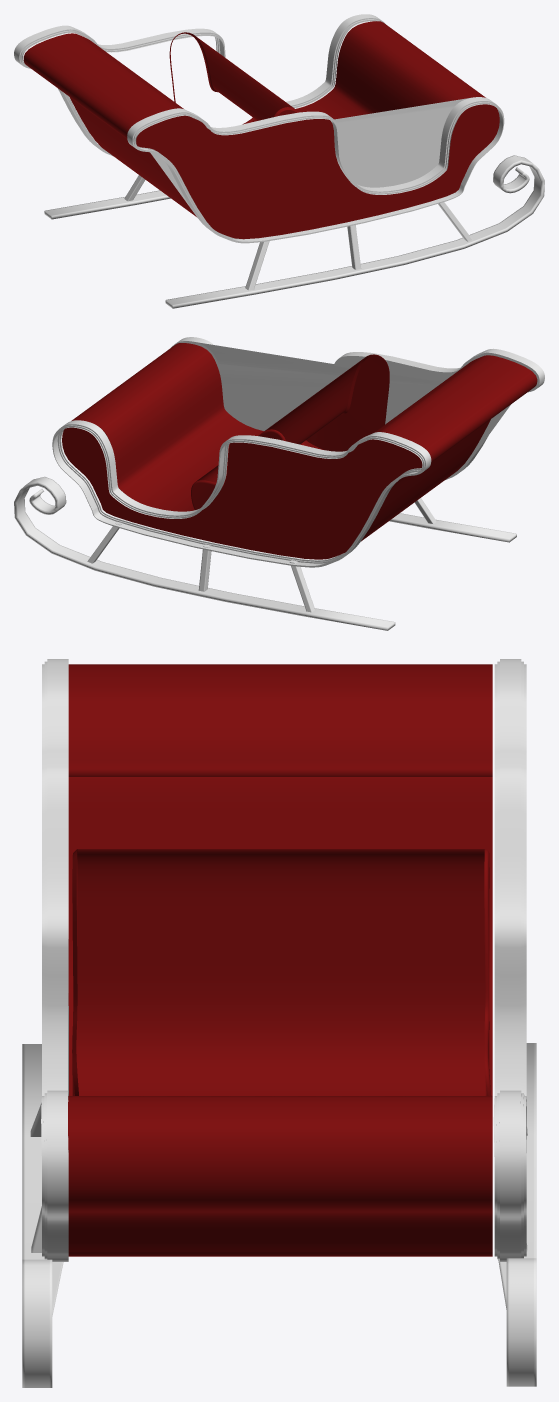
File: SLITTA BABBO.fbx
3 views of the same model, one above another, from view 1: azimuth 30°, elevation 25°; view 2: azimuth 150°, elevation 25°; view 3: azimuth 270°, elevation 25° (orthographic). The views are drawn at different scales.
Parts seen in each view (by area): view 1: Tappo_2_8, Loft, Tappo, Loft_1_4, Estrusione, Stondatura, SOFA, Estrusione_1, Stondatura_1_2, Loft_1_2, Loft_2_2, Loft_1_3 (+1 smaller); view 2: Loft, Tappo_1_8, Tappo, Loft_1_2, Estrusione_1, Tappo_1, Stondatura_2_2, SOFA, Stondatura_1_2, Loft_1_4, Estrusione, Tappo_2 (+3 smaller); view 3: Loft, SOFA, Estrusione_1, Estrusione, Loft_1_4, Loft_1_2, Stondatura_2_2, Stondatura_1_2, Stondatura, Stondatura_1, Stondatura_2.
Part boxes in pixels (x1,y1,x2,y2): Tappo_2_8: (136,104,499,239); Loft: (23,21,485,216); Tappo: (138,98,497,239); Loft_1_4: (165,155,544,308); Estrusione: (127,97,502,241); Stondatura: (132,101,504,243); SOFA: (197,37,294,121); Estrusione_1: (14,14,380,147); Stondatura_1_2: (19,18,386,155); Loft_1_2: (44,190,170,219); Loft_2_2: (245,241,269,290); Loft_1_3: (347,225,361,269); Loft: (71,343,537,541); Tappo_1_8: (62,427,429,559); Tappo: (171,341,539,479); Loft_1_2: (14,476,395,630); Estrusione_1: (54,420,431,565); Tappo_1: (306,355,388,451); Stondatura_2_2: (52,424,425,567); SOFA: (196,359,362,484); Stondatura_1_2: (57,429,421,563); Loft_1_4: (389,513,516,542); Estrusione: (177,337,544,471); Tappo_2: (192,432,281,509); Loft: (68,664,492,1256); SOFA: (77,849,485,1095); Estrusione_1: (499,659,521,1261); Estrusione: (46,659,68,1261); Loft_1_4: (22,1044,52,1387); Loft_1_2: (506,1043,536,1386); Stondatura_2_2: (520,661,526,1258); Stondatura_1_2: (493,661,499,1259); Stondatura: (41,661,47,1259); Stondatura_1: (72,849,78,1095); Stondatura_2: (484,849,491,1095).
Bounding box in the file's own units: 789 × 374 × 432.
